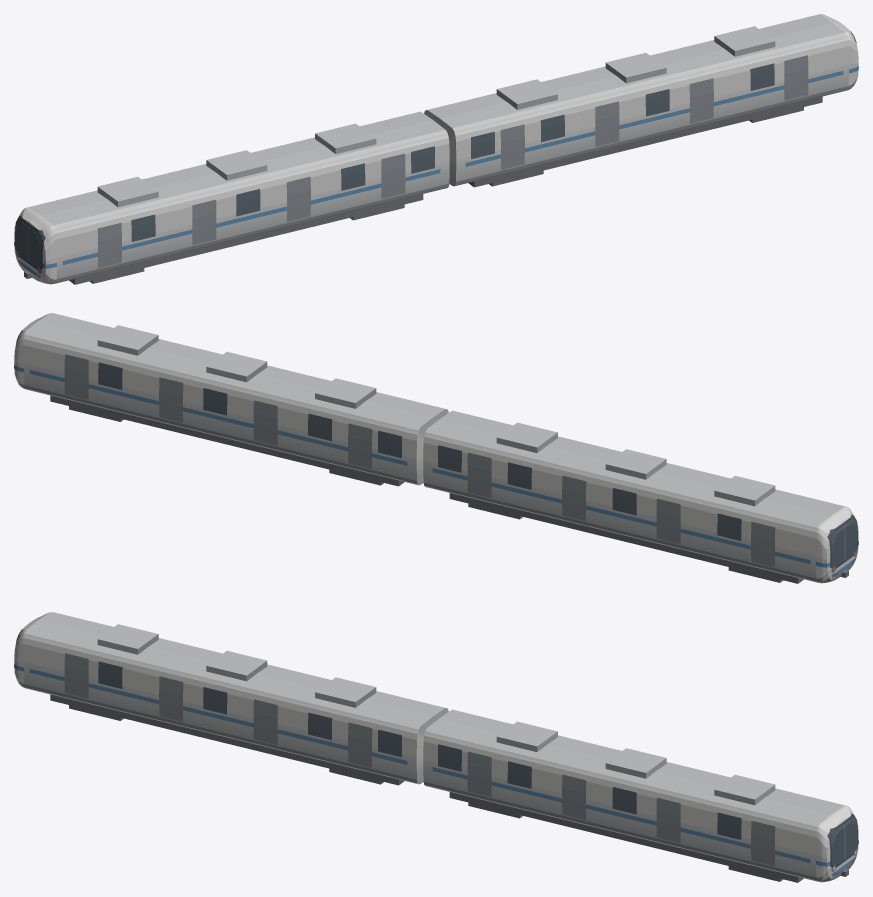
File: 02_HSR_MRT_3x2-02.glb
3 views of the same model, one above another, from view 1: azimuth 30°, elevation 25°; view 2: azimuth 150°, elevation 25°; view 3: azimuth 330°, elevation 25° (orthographic).
Bounding box in the file's own units: 44.68 × 3.88 × 3.14.
